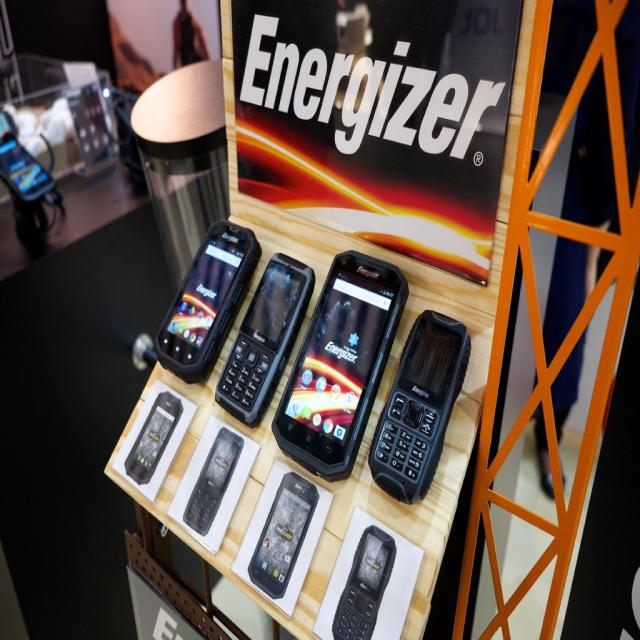Mobile-phone: (270, 248, 410, 483), (212, 247, 316, 428), (152, 218, 262, 384), (376, 323, 474, 506), (246, 468, 320, 600), (331, 521, 396, 640), (182, 427, 242, 535), (124, 388, 184, 486), (0, 108, 58, 202)
